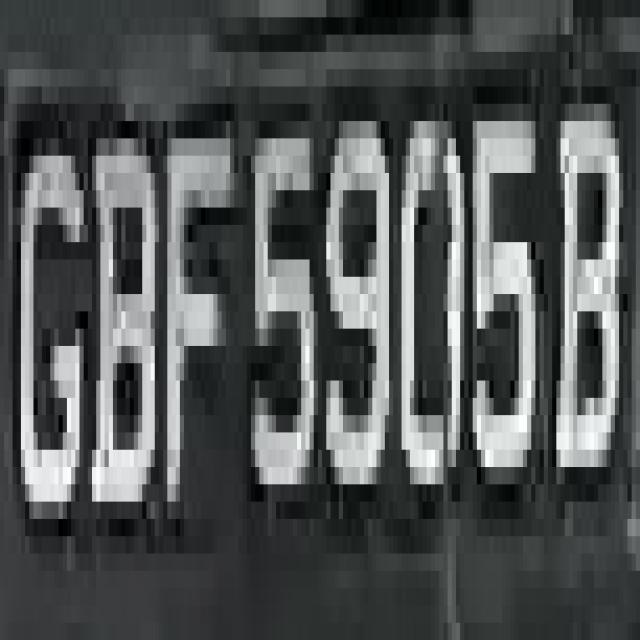0: (389, 104, 469, 536)
5: (239, 86, 322, 519), (473, 69, 535, 450)
9: (326, 104, 389, 467)
B: (552, 18, 619, 536), (92, 69, 159, 536)
F: (159, 121, 230, 519)
G: (21, 52, 88, 571)
